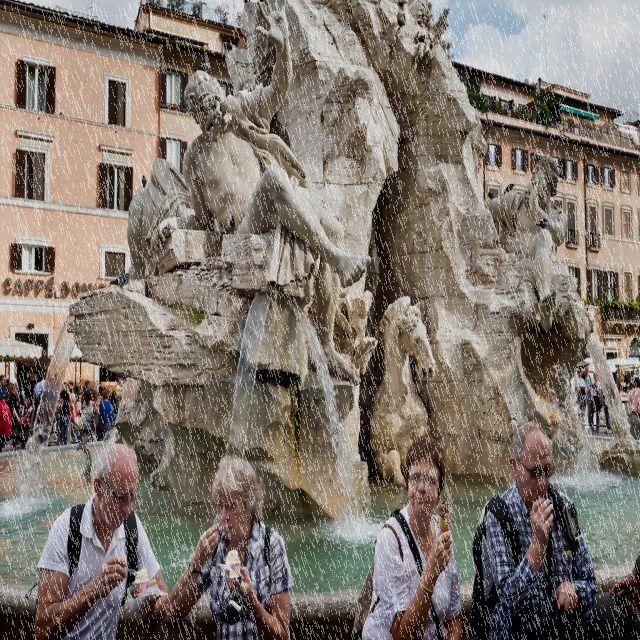pessoa: (105, 0, 395, 391), (467, 418, 613, 639), (32, 442, 172, 639), (348, 430, 479, 640), (164, 453, 296, 639), (468, 150, 586, 341), (1, 380, 22, 452), (12, 388, 33, 448), (586, 369, 602, 436), (16, 394, 34, 451), (0, 392, 15, 458), (574, 366, 588, 430), (98, 388, 114, 442), (80, 388, 101, 426), (59, 381, 70, 445), (28, 386, 44, 429), (51, 398, 64, 447), (626, 376, 640, 420), (74, 383, 84, 443), (32, 370, 48, 406), (614, 368, 634, 394), (68, 392, 81, 430), (80, 380, 100, 404), (109, 389, 119, 429), (582, 364, 592, 402), (115, 376, 126, 406), (0, 372, 8, 398), (94, 391, 102, 410), (68, 378, 76, 393), (61, 379, 70, 392)
